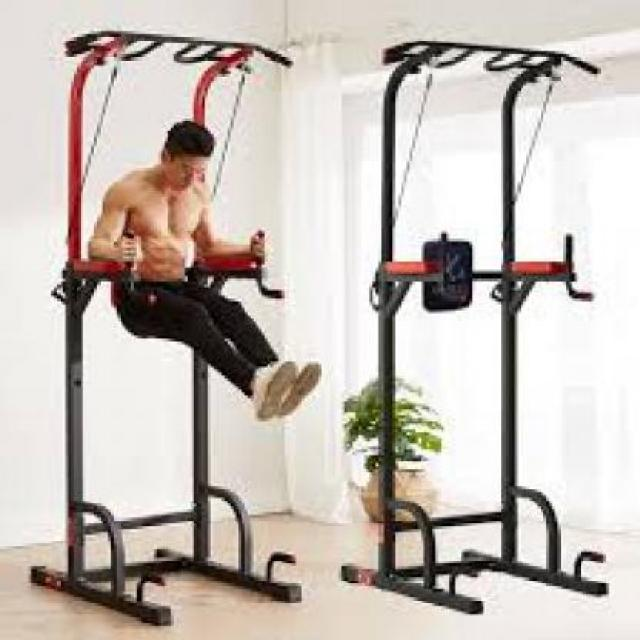chinning dipping: (28, 26, 302, 628), (342, 37, 612, 617)
